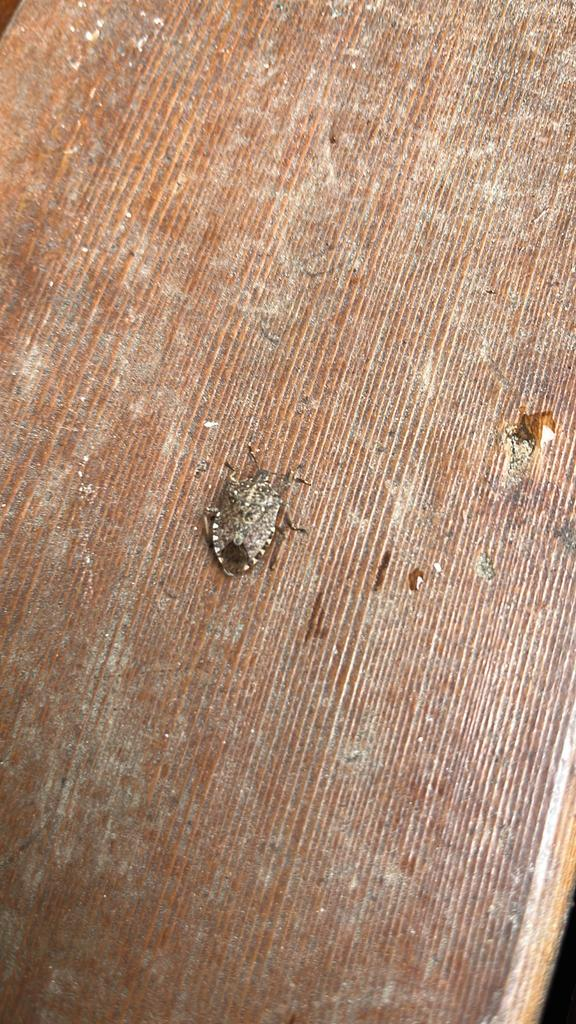stink_bugs: (176, 422, 325, 590)
